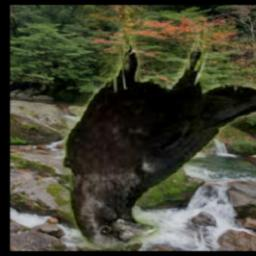Crow: (61, 5, 256, 249)
